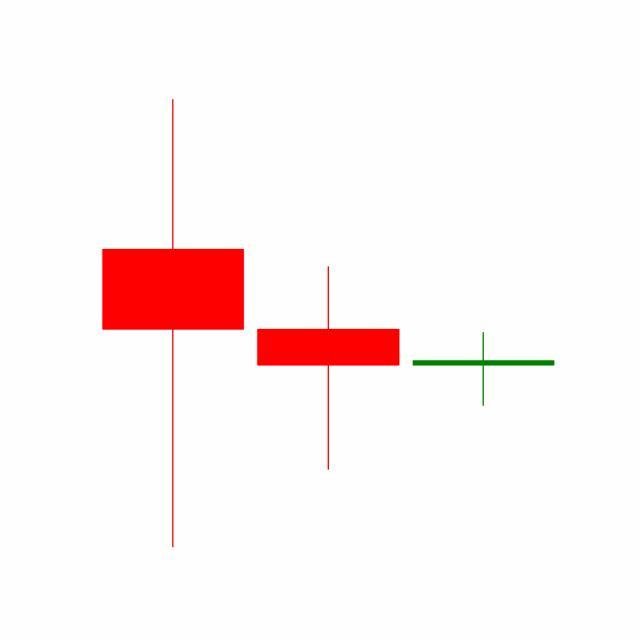Spinning Top: (250, 265, 407, 473)
